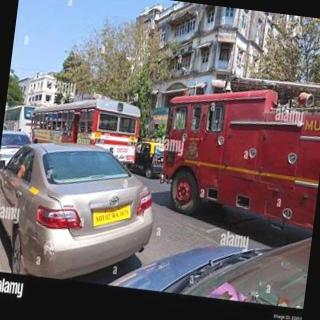Fire_truck: (153, 69, 320, 233)
